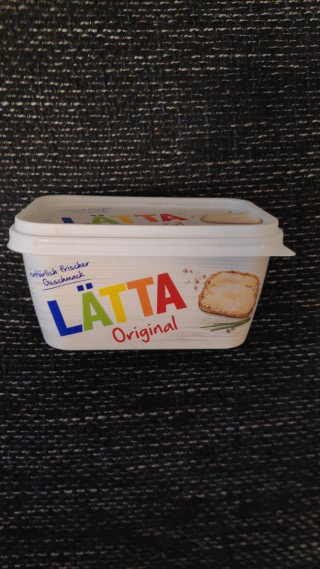laetta: (6, 193, 297, 352)
